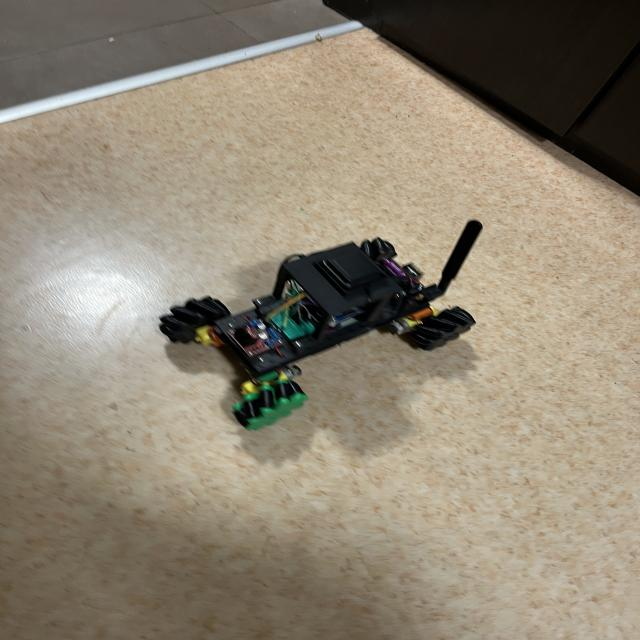robot: (159, 221, 482, 429)
